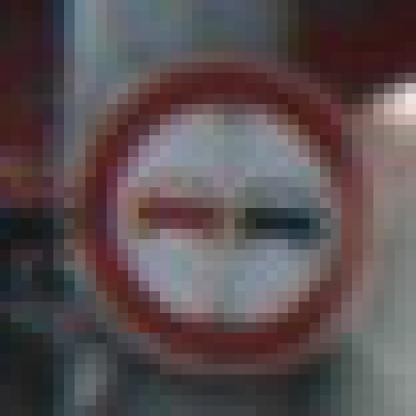No Overtaking: (65, 53, 364, 365)
